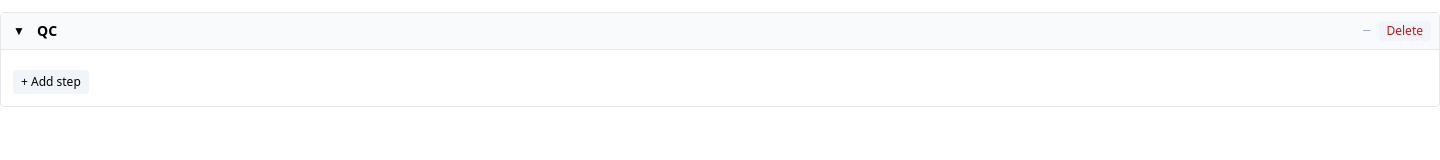
Test: Card › toggle collapses steps
Click the button with test id "card-toggle". click: point(19, 31)
box: [9,23,29,39]
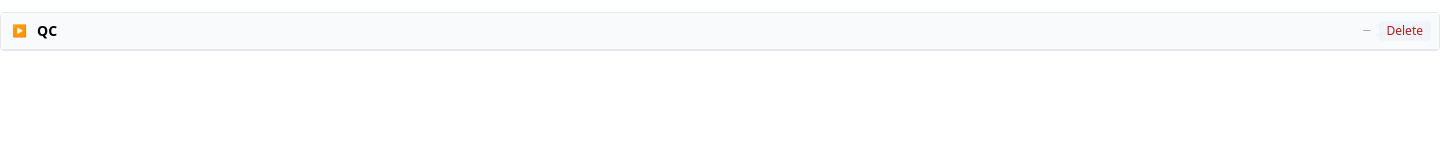
expect the button with test id "card-add-cell" is gone: met
